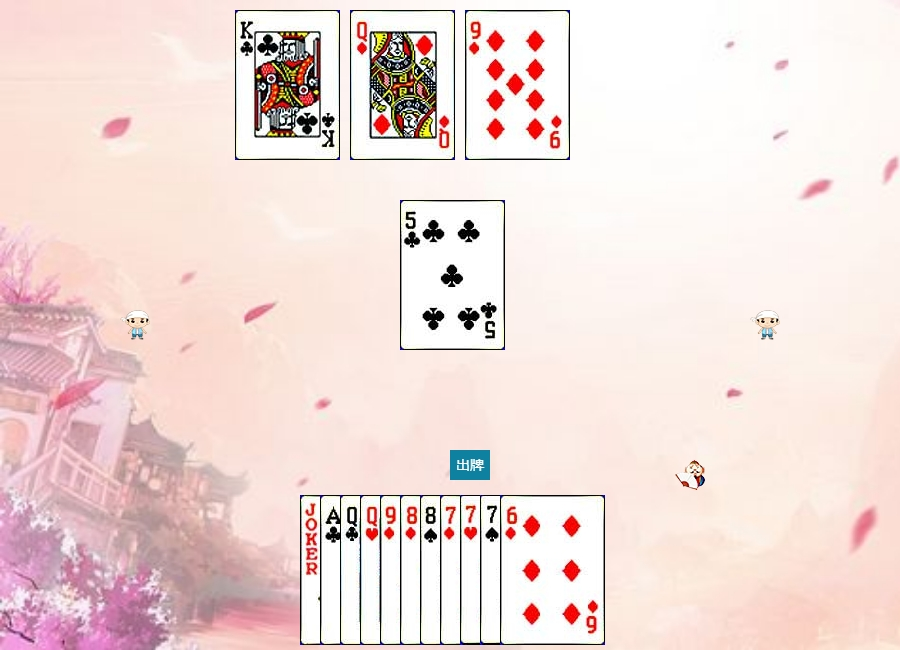12~1: (350, 10, 455, 160)
12~2: (340, 495, 445, 645)
12~3: (360, 495, 465, 645)
13~2: (235, 10, 340, 160)
14~2: (320, 495, 425, 645)
18~4: (300, 495, 405, 645)
5~2: (400, 200, 505, 350)
6~1: (500, 495, 605, 645)
7~1: (440, 495, 545, 645)
7~3: (460, 495, 565, 645)
7~4: (480, 495, 585, 645)
8~1: (400, 495, 505, 645)
8~4: (420, 495, 525, 645)
9~1: (465, 10, 570, 160), (380, 495, 485, 645)
